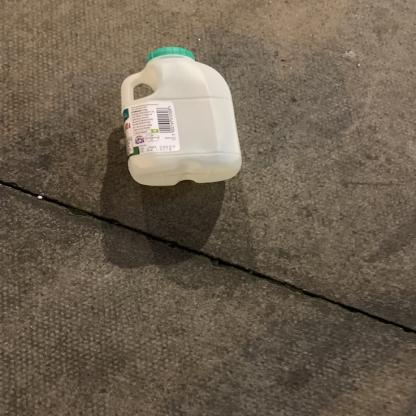trash: (118, 48, 248, 186)
